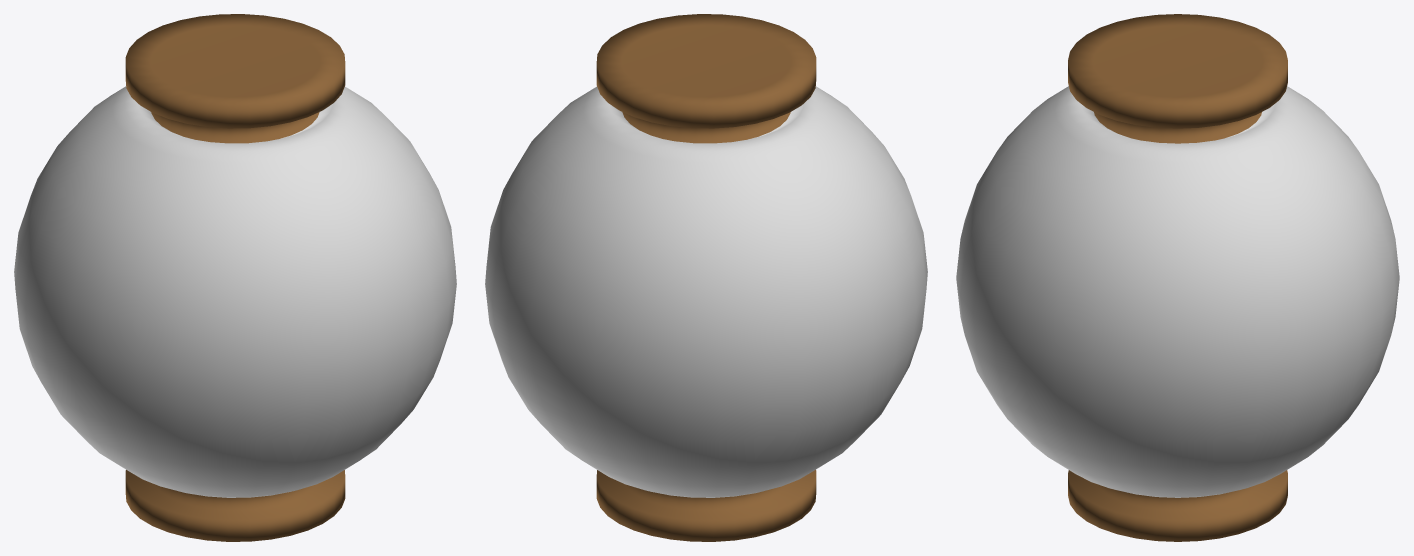
Rendered from tutorial_planet.glb.
3 views of the same model, side by side, from view 1: azimuth 30°, elevation 25°; view 2: azimuth 150°, elevation 25°; view 3: azimuth 270°, elevation 25° (orthographic).
Visible parts, largest first — view 1: Surface; view 2: Surface; view 3: Surface.
Part boxes in pixels (box(x1,y1,x2,y2)): Surface: box(14, 14, 456, 541); Surface: box(485, 14, 927, 541); Surface: box(956, 14, 1399, 541).
Bounding box in the file's own units: 30 × 32.46 × 30.
